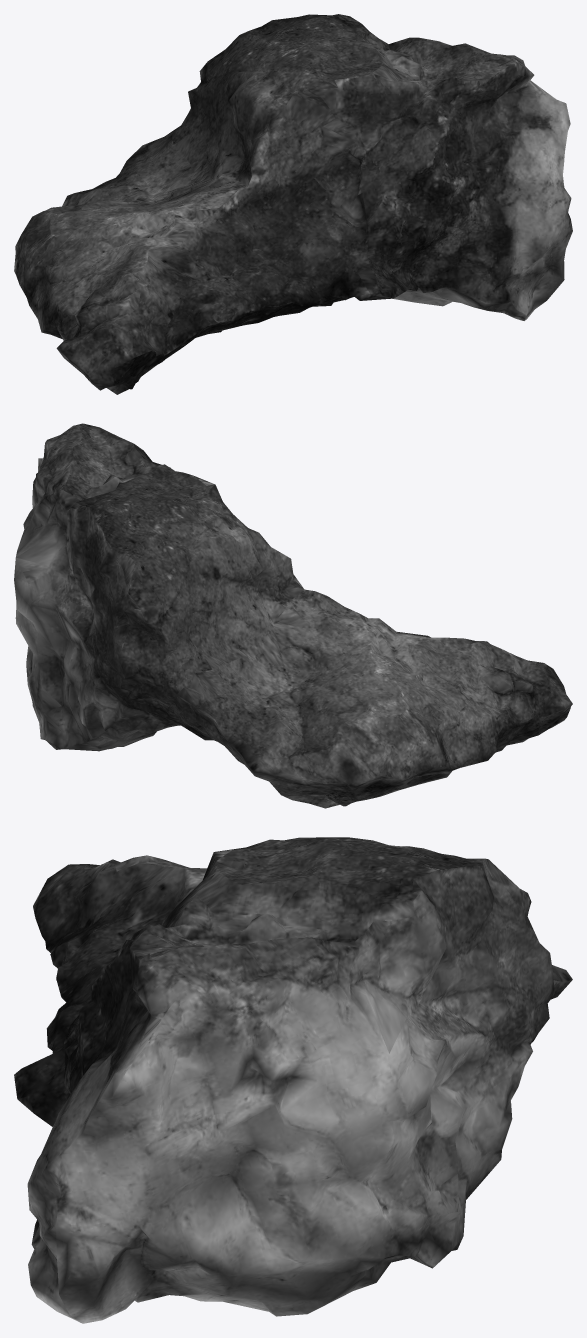
File: stone_01_LOD2.glb
3 renders of one model, top to bottom at view 1: azimuth 30°, elevation 25°; view 2: azimuth 150°, elevation 25°; view 3: azimuth 270°, elevation 25°, orthographic. The views are drawn at different scales.
Parts seen in each view (by area): view 1: stone_01_LOD2.001; view 2: stone_01_LOD2.001; view 3: stone_01_LOD2.001.
Part boxes in pixels (x1=…): stone_01_LOD2.001: x1=14, y1=14, x2=572, y2=394; stone_01_LOD2.001: x1=14, y1=423, x2=572, y2=808; stone_01_LOD2.001: x1=14, y1=837, x2=572, y2=1323.
Size of the model in its own units: 0.1468 by 0.0717 by 0.0894.
Materials: 1 (1 with a texture image).
